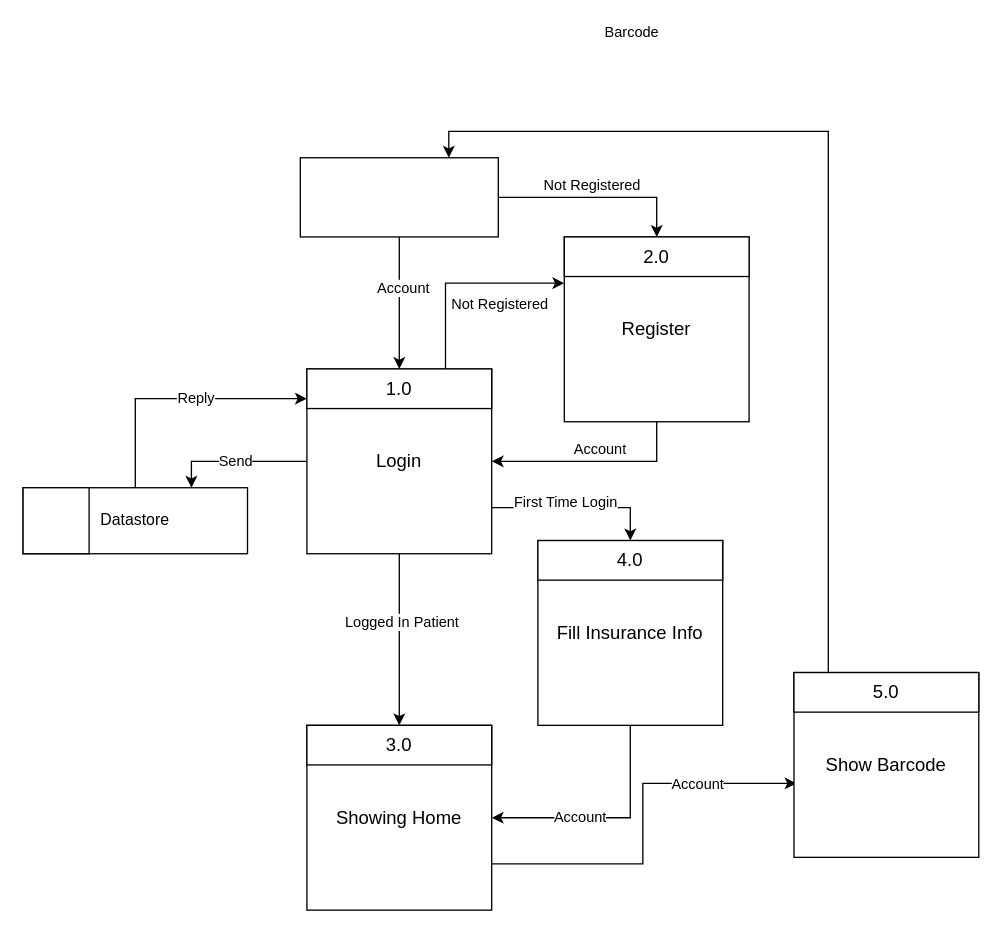
The diagram is 1002 pixels wide and 933 high, and some of its shapes have lost their labels. The centre of each missing label's shape, as x and y in pixels:
DS1: pixel 55 520
Patient: pixel 398 196
